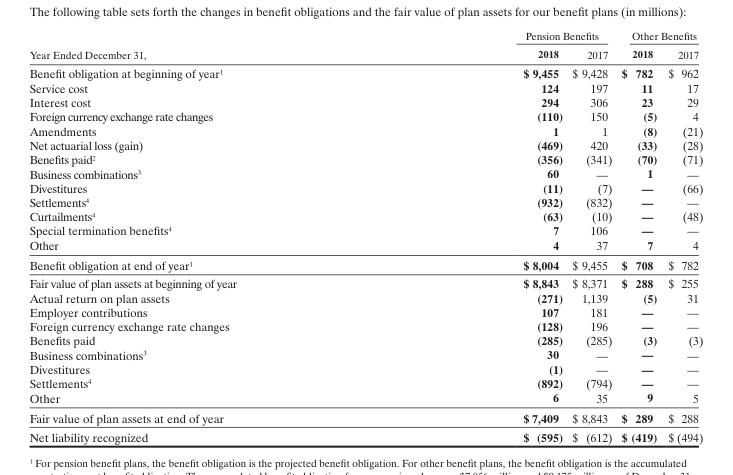table: (28, 29, 702, 444)
table column: (28, 29, 379, 444), (379, 29, 566, 444), (566, 29, 616, 444), (616, 29, 662, 444), (662, 29, 702, 444)
table column header: (28, 29, 702, 63)
table row: (28, 407, 702, 427), (28, 44, 702, 63), (28, 255, 702, 274), (28, 237, 702, 255), (28, 63, 702, 80), (28, 390, 702, 407), (28, 427, 702, 444), (28, 274, 702, 290), (28, 29, 702, 44), (28, 94, 702, 109), (28, 123, 702, 138), (28, 194, 702, 209), (28, 318, 702, 333), (28, 375, 702, 390), (28, 80, 702, 94), (28, 109, 702, 123), (28, 138, 702, 152), (28, 152, 702, 166), (28, 166, 702, 180), (28, 180, 702, 194), (28, 209, 702, 223), (28, 223, 702, 237), (28, 290, 702, 304), (28, 304, 702, 318), (28, 333, 702, 347), (28, 347, 702, 361), (28, 361, 702, 375)
table spanning cell: (28, 29, 379, 63), (379, 29, 616, 44), (616, 29, 702, 44)
